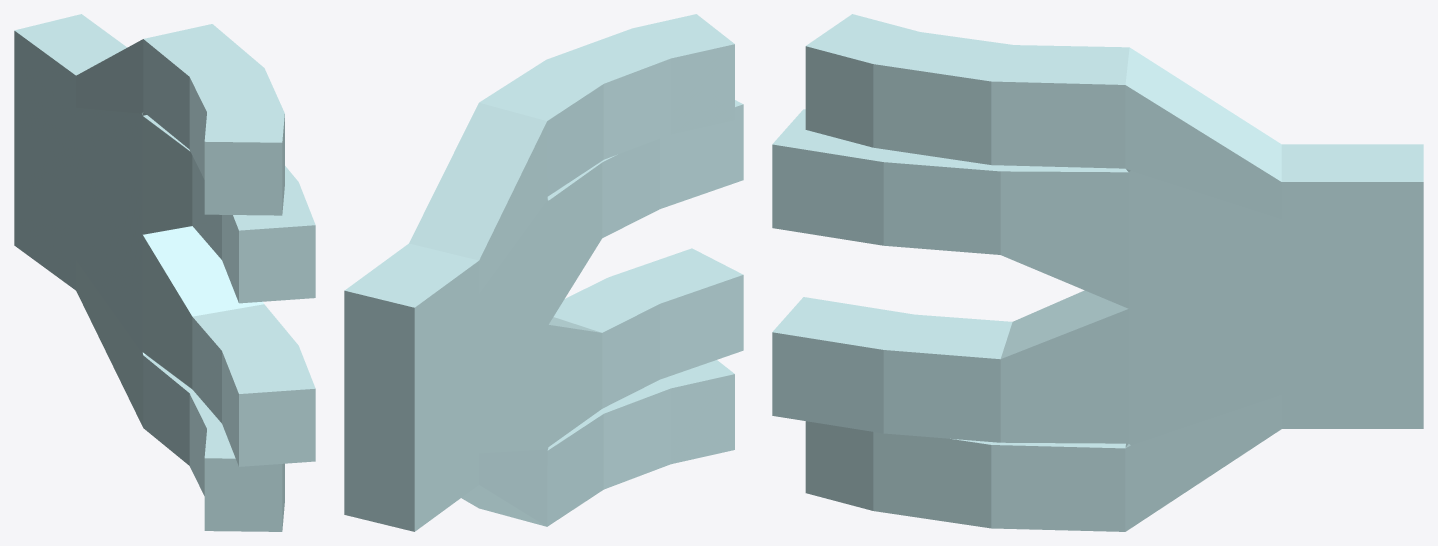
File: Robot Left Hand.fbx
3 renders of one model, left to right at view 1: azimuth 30°, elevation 25°; view 2: azimuth 150°, elevation 25°; view 3: azimuth 270°, elevation 25°, orthographic. The views are drawn at different scales.
Parts seen in each view (by area): view 1: lhand; view 2: lhand; view 3: lhand.
Part boxes in pixels (<box>): lhand: <box>14,14,315,531</box>; lhand: <box>344,14,743,531</box>; lhand: <box>772,14,1423,531</box>.
Size of the model in its own units: 23.11 by 67.8 by 89.59.
